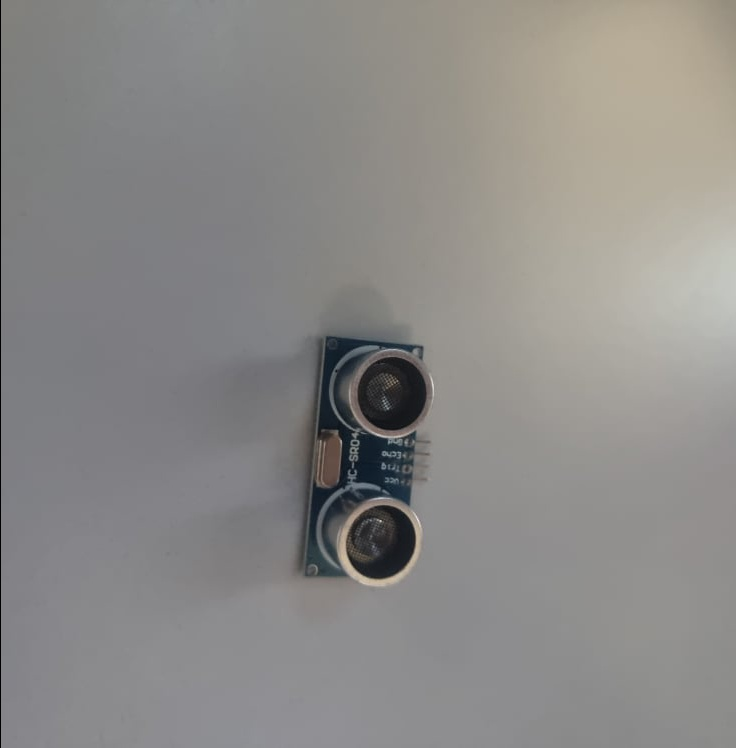SENSOR: (301, 332, 436, 588)
